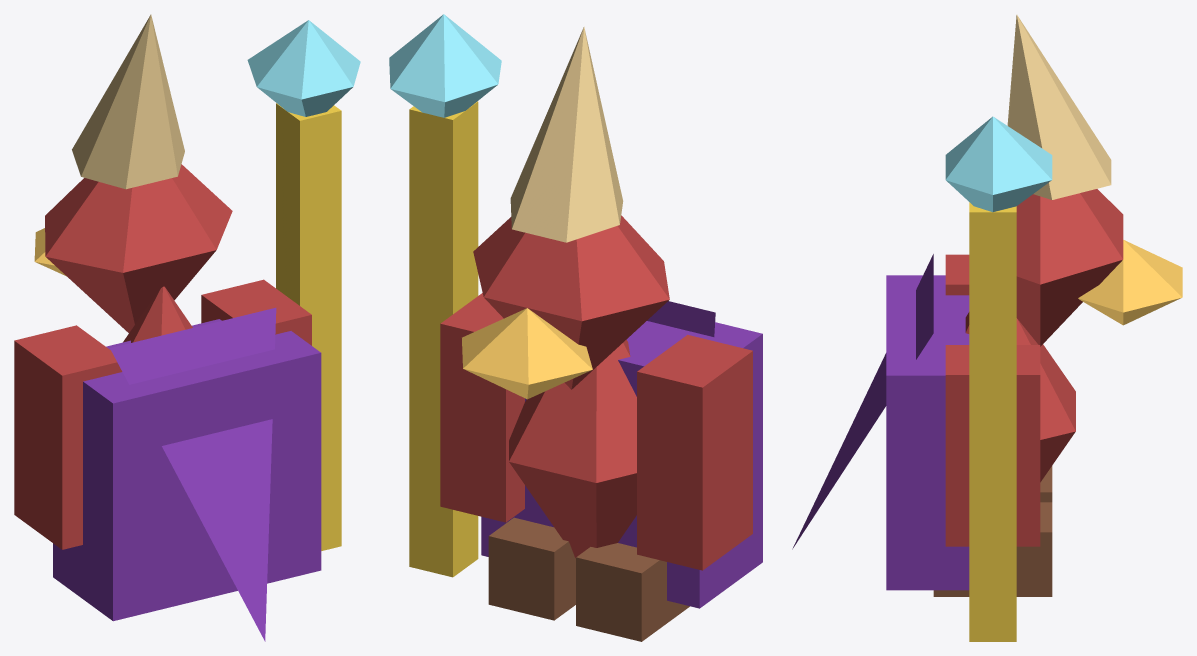
The model's file is ripto.obj.
3 views of the same model, side by side, from view 1: azimuth 30°, elevation 25°; view 2: azimuth 150°, elevation 25°; view 3: azimuth 270°, elevation 25° (orthographic). The views are drawn at different scales.
Visible parts, largest first — view 1: ripto; view 2: ripto; view 3: ripto.
Boxes of the visible parts, <box> form: ripto: <box>14,14,360,641</box>; ripto: <box>389,14,762,641</box>; ripto: <box>792,14,1182,641</box>.
Bounding box in the file's own units: 31 × 51 × 33.
